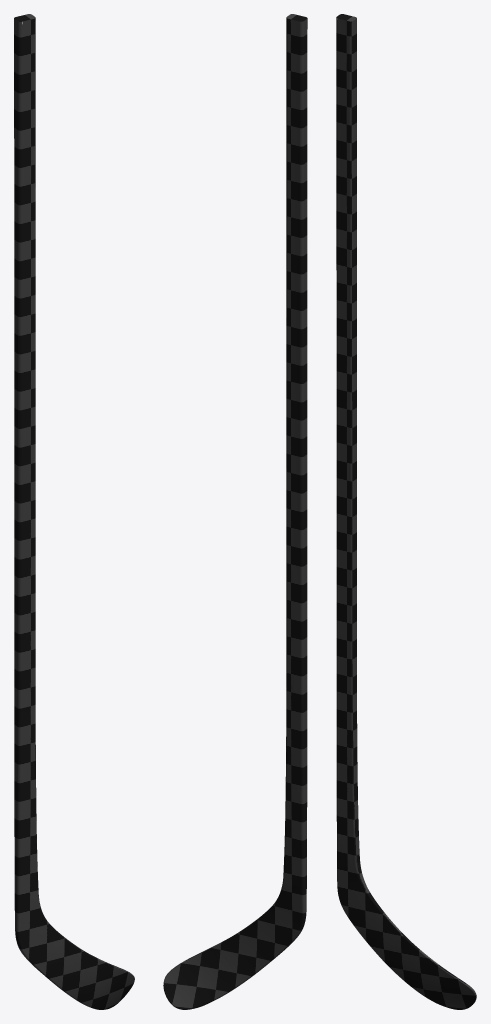
The picture shows the model from 3 angles, left to right: view 1: azimuth 30°, elevation 25°; view 2: azimuth 150°, elevation 25°; view 3: azimuth 330°, elevation 25°; orthographic projection. The views are drawn at different scales.
Visible parts, largest first — view 1: geometry_0; view 2: geometry_0; view 3: geometry_0.
Part boxes in pixels (box(x1,y1,x2,y2)): geometry_0: box(14, 14, 134, 1009); geometry_0: box(163, 14, 307, 1009); geometry_0: box(336, 14, 476, 1009).
Bounding box in the file's own units: 221 × 1650 × 59.48.
Materials: 1 (1 with a texture image).
